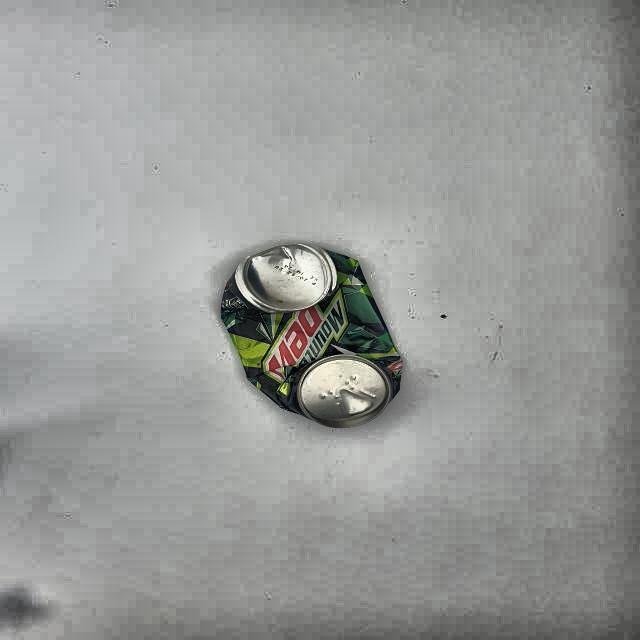metal: (220, 242, 405, 430)
